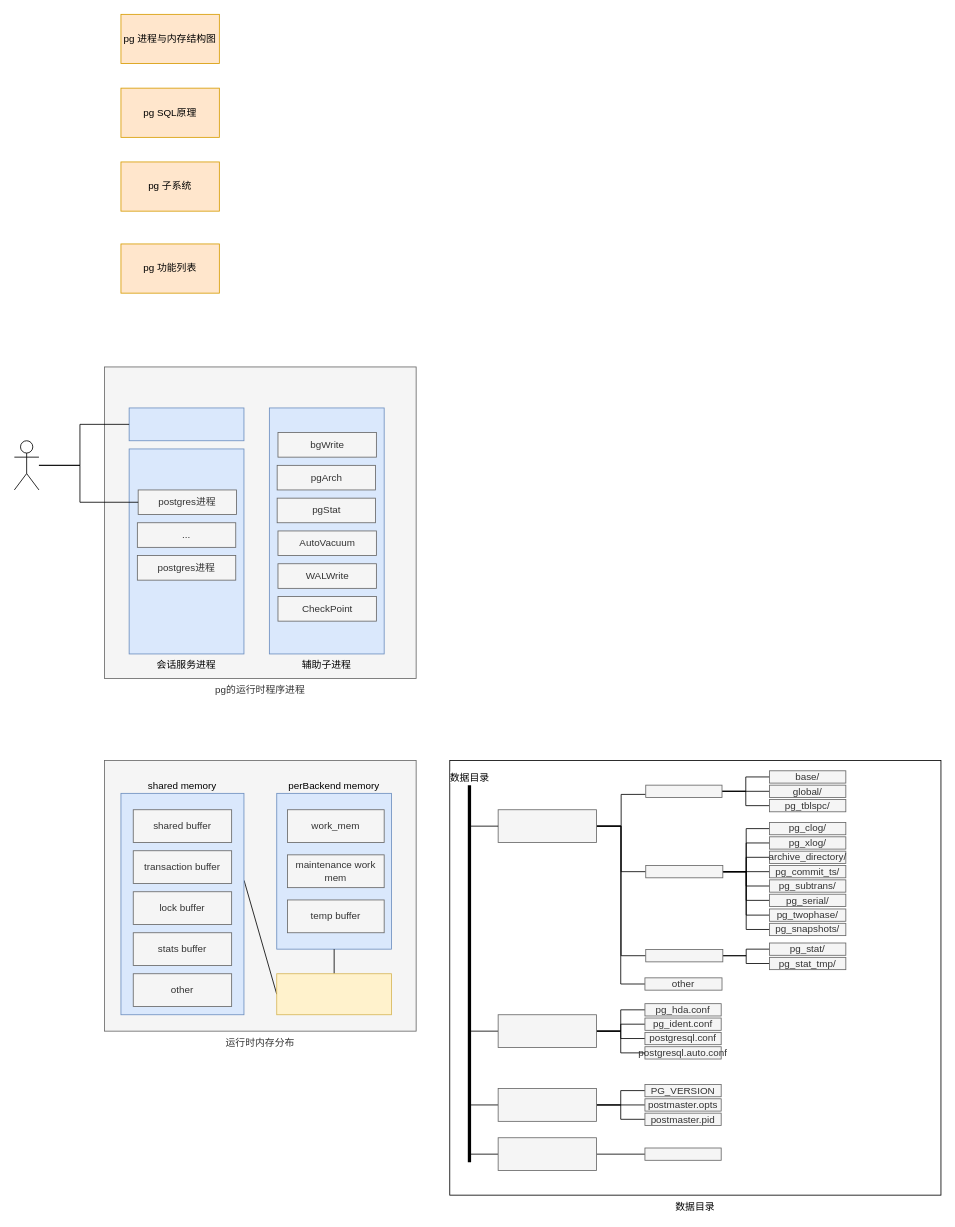
The diagram is 955 pixels wide and 1227 high, and some of its shapes have lost their labels. Each missing label, with the centre of its shape:
"client" belongs at (x=26, y=465).
"configuration files" belongs at (x=547, y=1031).
"data files" belongs at (x=683, y=790).
"lock files" belongs at (x=547, y=1104).
"log files" belongs at (x=547, y=1154).
"os cache" belongs at (x=334, y=994).
"pg_log" belongs at (x=682, y=1153).
"postmaster守护进程" belongs at (x=186, y=424).
"stats files" belongs at (x=684, y=955).
"subdirectories" belongs at (x=547, y=826).
"transaction files" belongs at (x=684, y=871).
